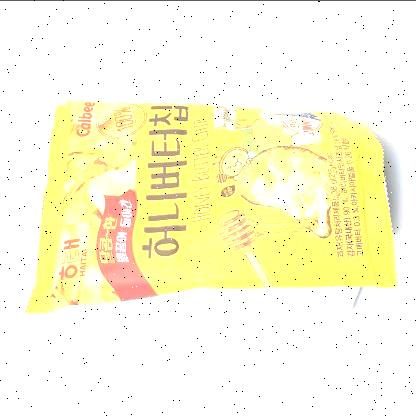Others: (14, 67, 406, 320)
